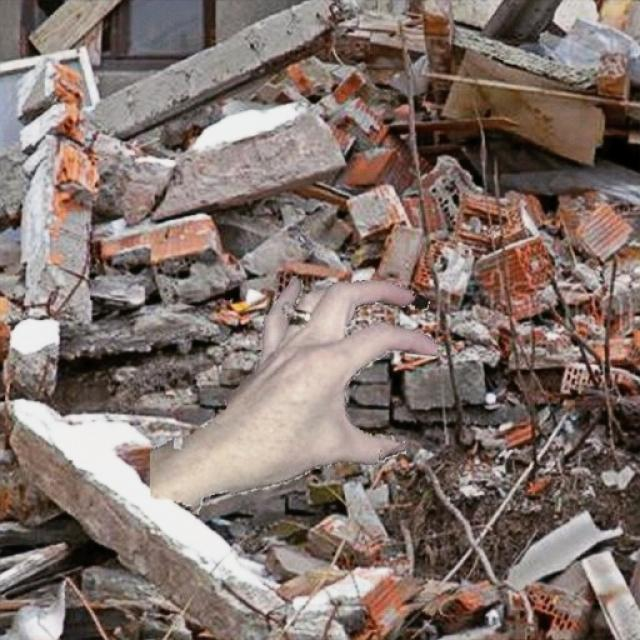Person in Rubble: (150, 276, 436, 515)
